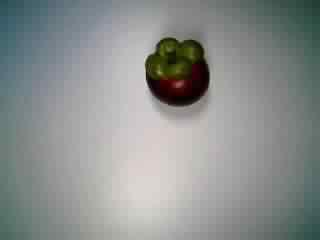mangosteen: (138, 30, 211, 110)
